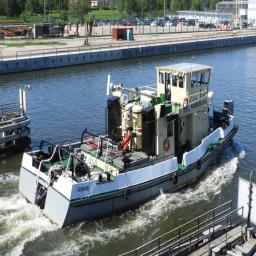tugboat: (16, 55, 241, 235)
